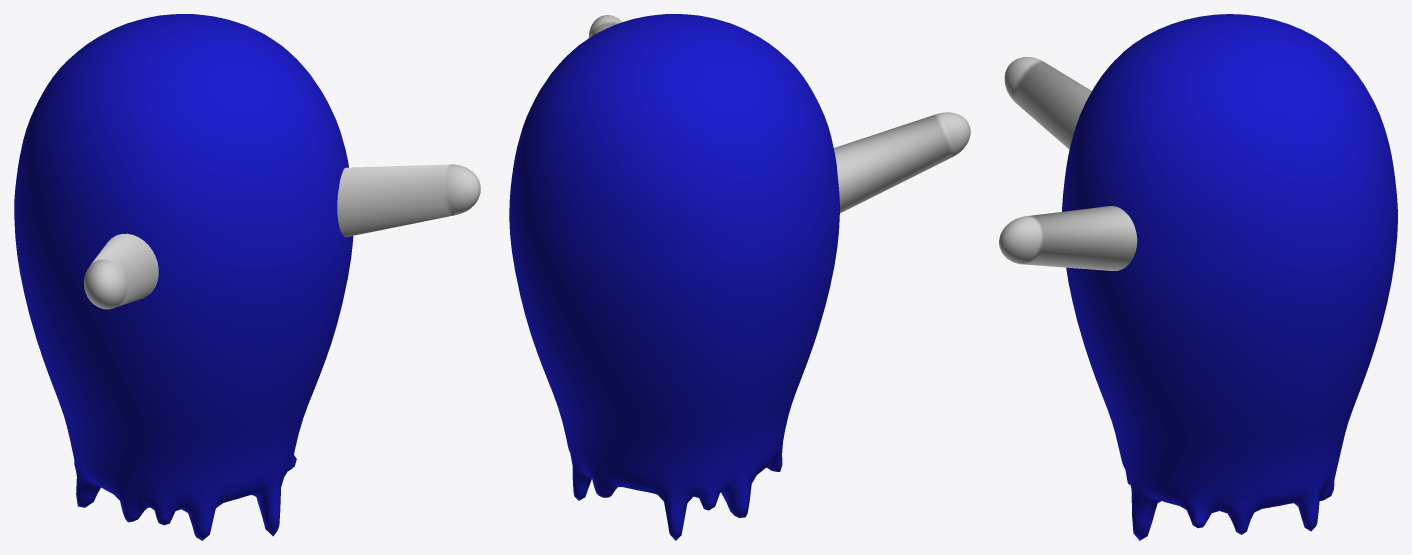
Rendered from afterThrow_000024.obj.
The picture shows the model from 3 angles, left to right: view 1: azimuth 30°, elevation 25°; view 2: azimuth 150°, elevation 25°; view 3: azimuth 270°, elevation 25°; orthographic projection. The views are drawn at different scales.
Visible parts, largest first — view 1: Cube, Sphere, Sphere.001; view 2: Cube, Sphere.001; view 3: Cube, Sphere, Sphere.001.
Part boxes in pixels (x1,y1,x2,y2): Cube: (14, 14, 353, 540); Sphere: (337, 164, 480, 237); Sphere.001: (84, 233, 158, 309); Cube: (509, 14, 839, 540); Sphere.001: (833, 112, 970, 213); Cube: (1062, 14, 1397, 540); Sphere: (999, 206, 1137, 270); Sphere.001: (1004, 57, 1091, 149).
Bounding box in the file's own units: 0.3834 × 0.4582 × 0.3395.
